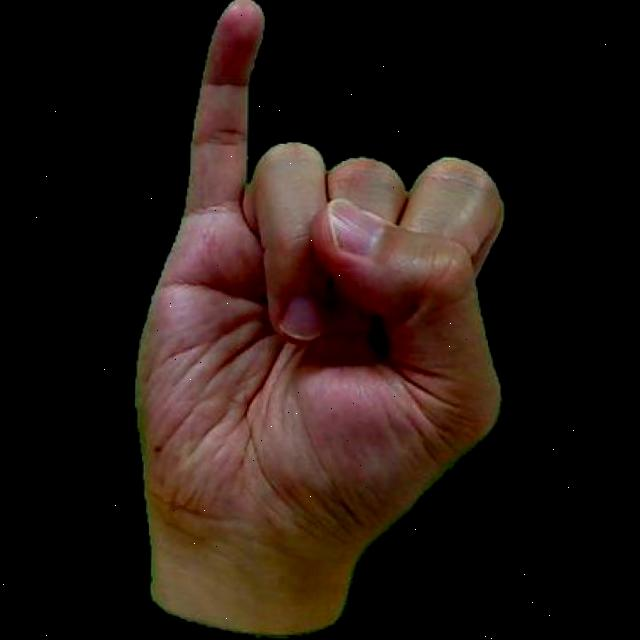i: (119, 0, 516, 640)
